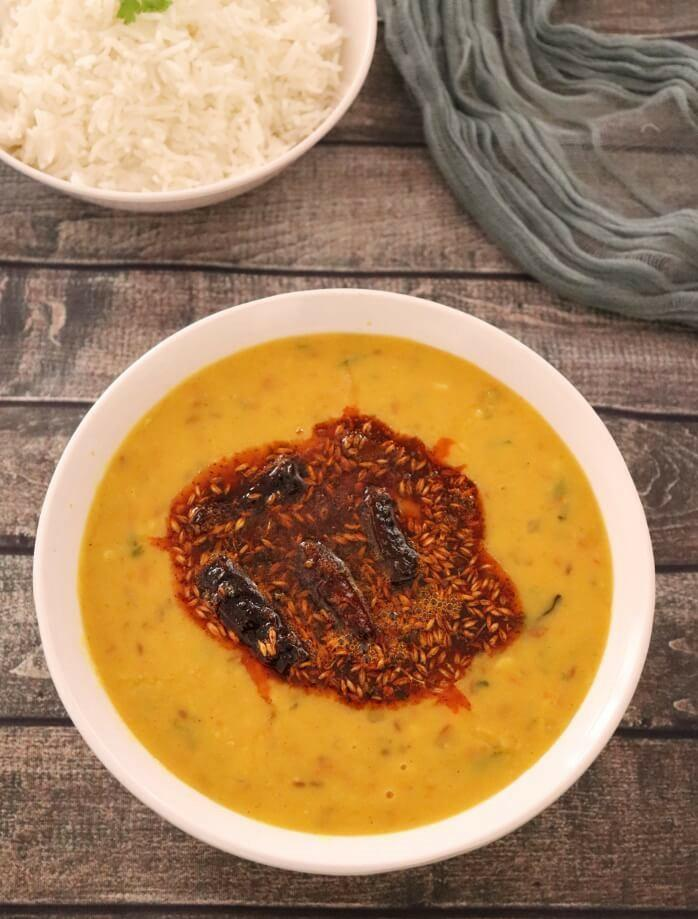Dal: (81, 332, 613, 835)
WhiteRice: (0, 0, 352, 195)
